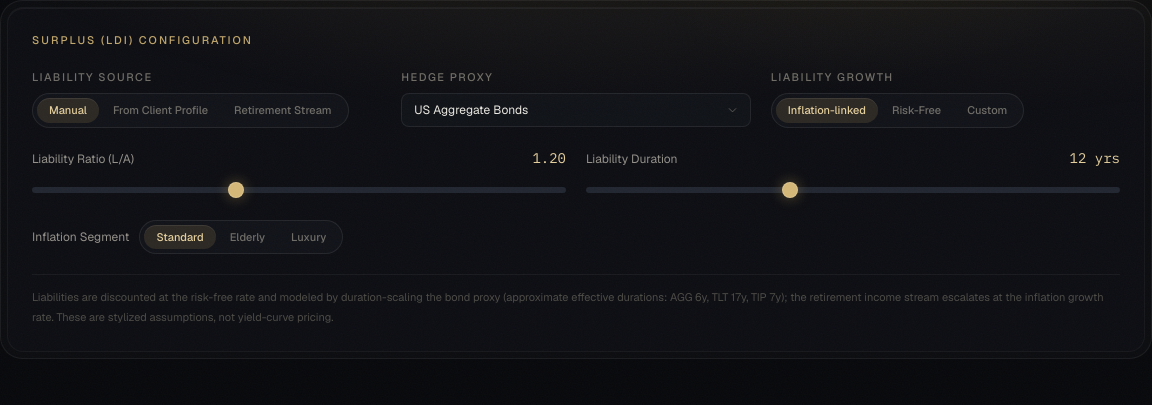
Test: SurplusConfigPanel › uses the profile asset base hint when a client is selected
This screenshot has width=1152, height=405.
Click the button "Retirement Stream". click: (283, 110)
box: [222, 98, 344, 122]
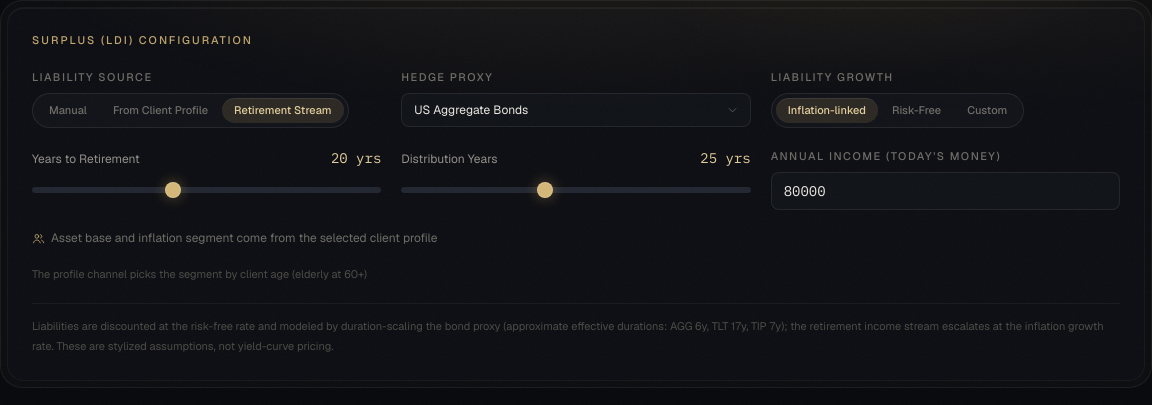
Expected: the text "selected client profile" is shown, [51, 230, 438, 246]
